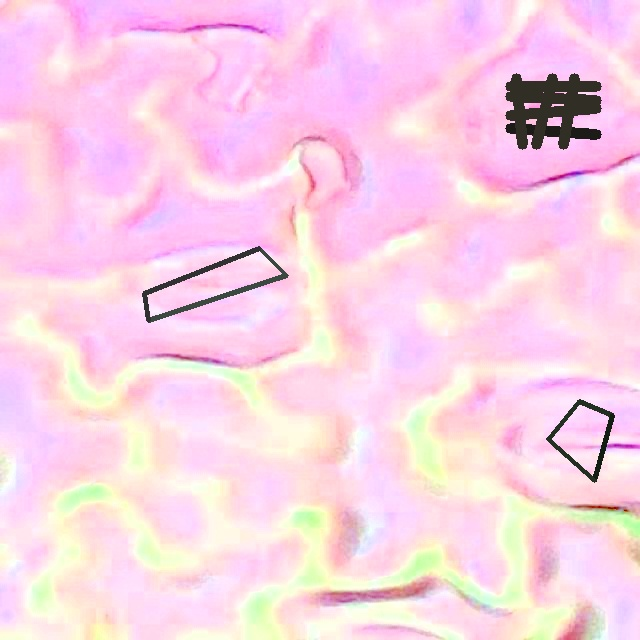open: (142, 247, 288, 322), (505, 73, 600, 148), (546, 399, 614, 482)
